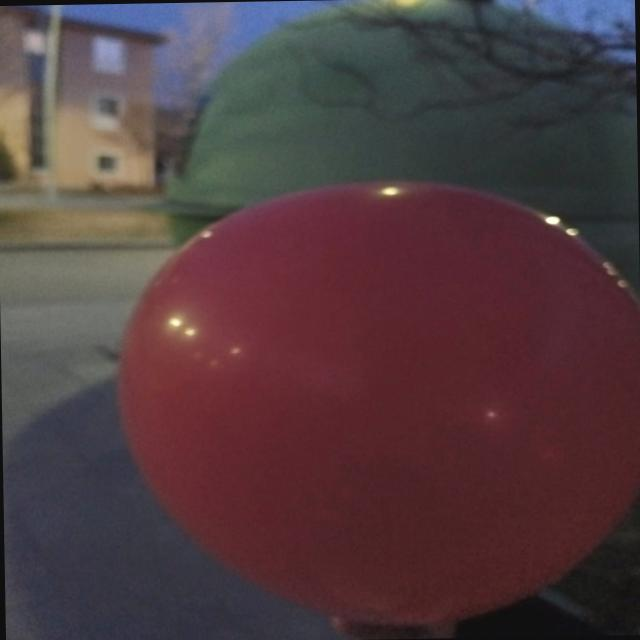balloon: (118, 185, 640, 625)
